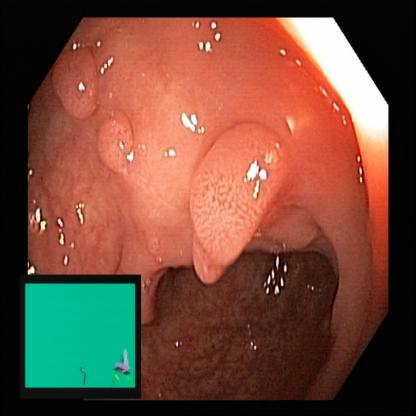Polyps: (179, 107, 290, 276), (23, 274, 139, 398), (51, 44, 103, 112), (99, 112, 143, 174)
